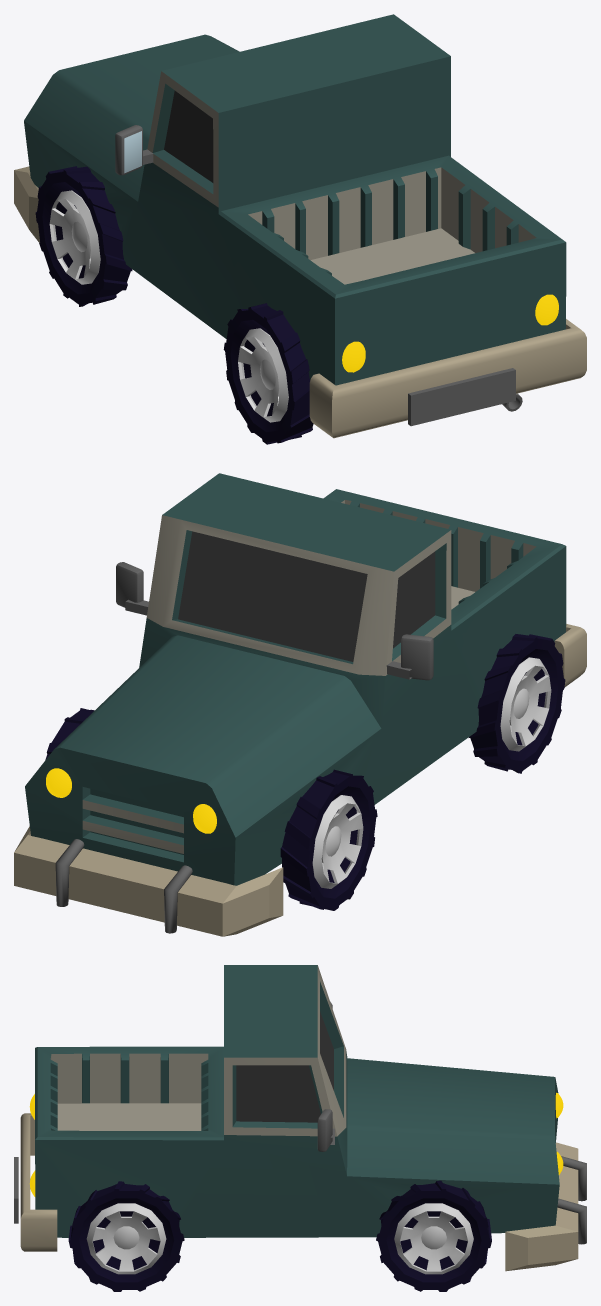
Rendered from Car_Pickup_0.glb.
3 renders of one model, top to bottom at view 1: azimuth 30°, elevation 25°; view 2: azimuth 150°, elevation 25°; view 3: azimuth 270°, elevation 25°, orthographic. The views are drawn at different scales.
Visible parts, largest first — view 1: Cube.1647, Cylinder.1882, Cube.1653, Cylinder.1883, Cube.1654, Cube.1652, Cube.1650, Sphere.488; view 2: Cube.1647, Cylinder.1882, Cube.1652, Cylinder.1883, Cube.1650, Plane.139, Cube.1653, Sphere.486, Cube.1651; view 3: Cube.1647, Cylinder.1882, Cylinder.1883, Cube.1652, Cube.1653, Plane.139, Cube.1650.
Boxes of the visible parts, x1=… form: Cube.1647: x1=24, y1=14, x2=566, y2=385; Cylinder.1882: x1=35, y1=166, x2=313, y2=444; Cube.1653: x1=309, y1=319, x2=586, y2=438; Cylinder.1883: x1=49, y1=190, x2=288, y2=422; Cube.1654: x1=408, y1=368, x2=515, y2=426; Cube.1652: x1=14, y1=166, x2=39, y2=242; Cube.1650: x1=115, y1=125, x2=142, y2=175; Sphere.488: x1=342, y1=294, x2=558, y2=372; Cube.1647: x1=25, y1=473, x2=566, y2=885; Cylinder.1882: x1=45, y1=634, x2=565, y2=910; Cube.1652: x1=14, y1=826, x2=283, y2=936; Cylinder.1883: x1=312, y1=657, x2=551, y2=888; Cube.1650: x1=116, y1=562, x2=433, y2=680; Plane.139: x1=55, y1=839, x2=192, y2=933; Cube.1653: x1=554, y1=624, x2=586, y2=687; Sphere.486: x1=46, y1=768, x2=216, y2=833; Cube.1651: x1=125, y1=599, x2=411, y2=679; Cube.1647: x1=35, y1=965, x2=559, y2=1237; Cylinder.1882: x1=68, y1=1180, x2=491, y2=1291; Cylinder.1883: x1=86, y1=1203, x2=473, y2=1274; Cube.1652: x1=505, y1=1142, x2=578, y2=1271; Cube.1653: x1=20, y1=1113, x2=57, y2=1251; Plane.139: x1=557, y1=1156, x2=586, y2=1244; Cube.1650: x1=317, y1=1001, x2=332, y2=1151.
Bounding box in the file's own units: 2.55 × 2.14 × 4.9.
